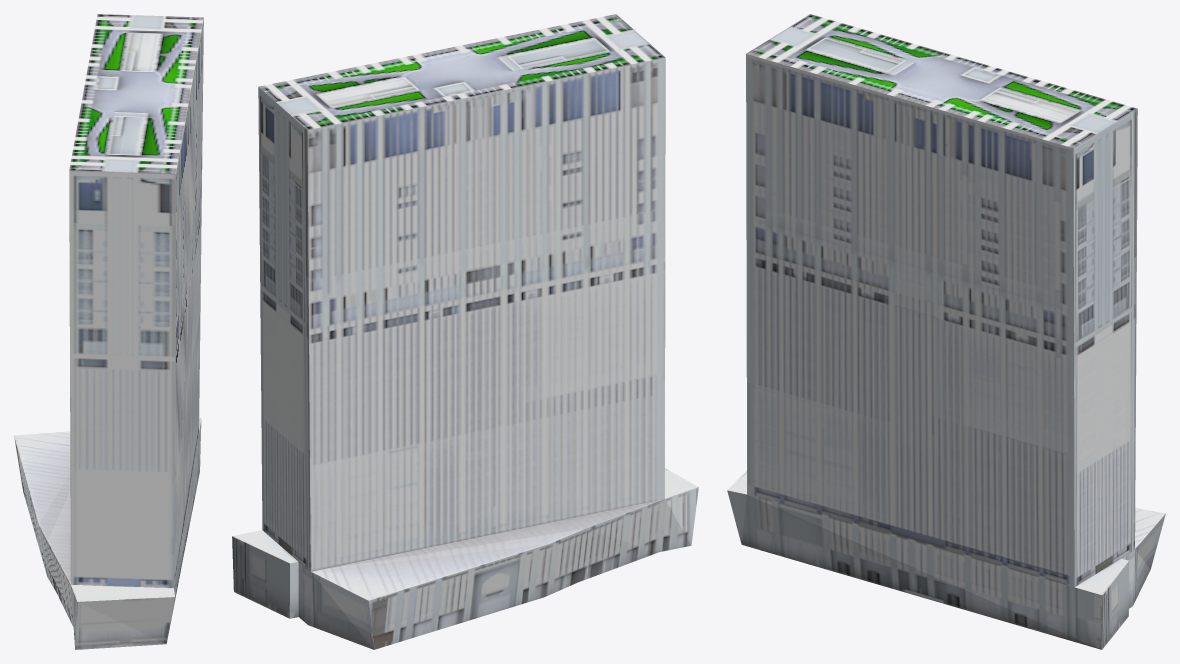
The picture shows the model from 3 angles, left to right: view 1: azimuth 30°, elevation 25°; view 2: azimuth 150°, elevation 25°; view 3: azimuth 270°, elevation 25°; orthographic projection. The views are drawn at different scales.
Parts seen in each view (by area): view 1: 404COPY; view 2: 404COPY; view 3: 404COPY.
Part boxes in pixels (x1,y1,x2,y2): 404COPY: (14, 14, 203, 649); 404COPY: (232, 14, 698, 649); 404COPY: (727, 14, 1165, 649).
Bounding box in the file's own units: 69.09 × 110 × 87.74.
1 material, 1 textured.
